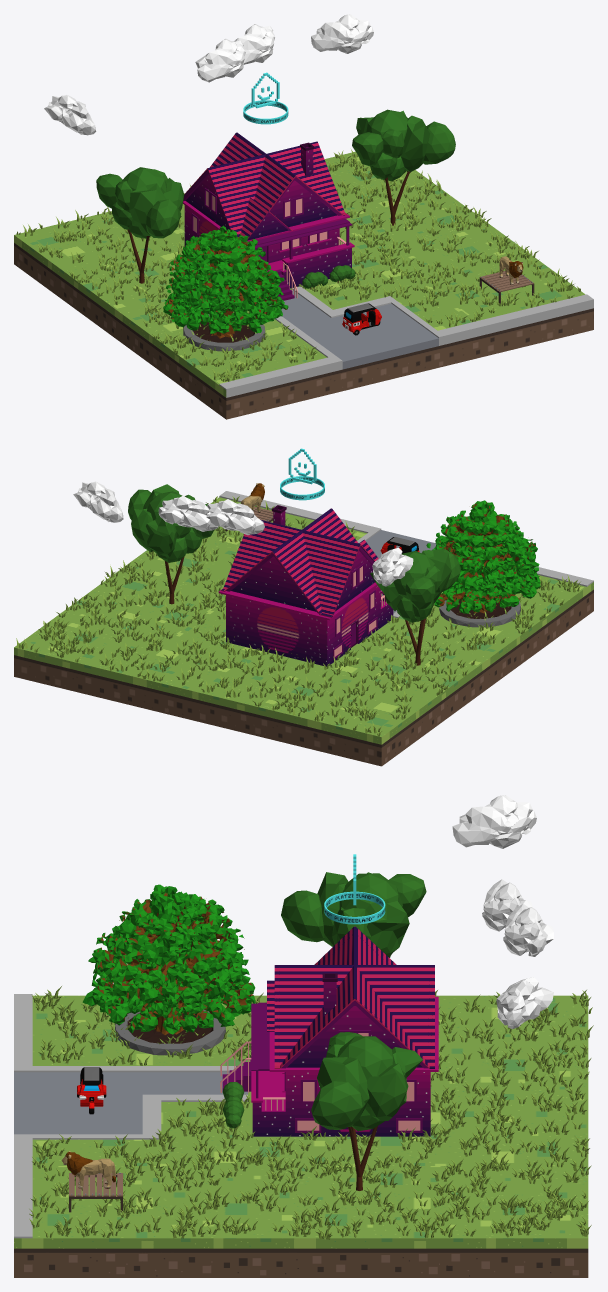
3 views of the same model, one above another, from view 1: azimuth 30°, elevation 25°; view 2: azimuth 150°, elevation 25°; view 3: azimuth 270°, elevation 25° (orthographic). The views are drawn at different scales.
Parts seen in each view (by area): view 1: Cube.006, Cube.156, Circle.012_Grass_0.192, OBJRANDOM_CEIBA, Cube.007, tree, tree.001, TYPE_PREMIUM, VEHICLES_TUC_TUC, Cube.009; view 2: Cube.006, Cube.156, Circle.012_Grass_0.192, OBJRANDOM_CEIBA, Cube.007, tree.001, tree, TYPE_PREMIUM, VEHICLES_TUC_TUC; view 3: Cube.006, Circle.012_Grass_0.192, Cube.156, OBJRANDOM_CEIBA, tree, Cube.007, tree.001, Cube.009, TYPE_PREMIUM, ANIMAL_LEON, VEHICLES_TUC_TUC.
Boxes of the visible parts, bbox=[...] form: Cube.006: bbox=[14, 151, 593, 419]; Cube.156: bbox=[183, 132, 354, 300]; Circle.012_Grass_0.192: bbox=[16, 149, 580, 381]; OBJRANDOM_CEIBA: bbox=[163, 225, 288, 351]; Cube.007: bbox=[44, 14, 373, 135]; tree: bbox=[352, 109, 455, 225]; tree.001: bbox=[96, 167, 184, 283]; TYPE_PREMIUM: bbox=[243, 72, 288, 124]; VEHICLES_TUC_TUC: bbox=[342, 303, 381, 335]; Cube.009: bbox=[479, 271, 534, 303]; Cube.006: bbox=[14, 491, 593, 766]; Cube.156: bbox=[218, 505, 393, 666]; Circle.012_Grass_0.192: bbox=[16, 496, 580, 736]; OBJRANDOM_CEIBA: bbox=[426, 500, 540, 627]; Cube.007: bbox=[73, 481, 413, 586]; tree.001: bbox=[370, 549, 460, 665]; tree: bbox=[128, 484, 214, 604]; TYPE_PREMIUM: bbox=[280, 448, 324, 500]; VEHICLES_TUC_TUC: bbox=[380, 537, 419, 553]; Cube.006: bbox=[14, 994, 588, 1277]; Circle.012_Grass_0.192: bbox=[29, 986, 593, 1239]; Cube.156: bbox=[220, 926, 438, 1136]; OBJRANDOM_CEIBA: bbox=[82, 884, 255, 1055]; tree: bbox=[311, 1032, 422, 1190]; Cube.007: bbox=[452, 795, 553, 1029]; tree.001: bbox=[281, 872, 426, 957]; Cube.009: bbox=[69, 1172, 122, 1212]; TYPE_PREMIUM: bbox=[324, 854, 385, 924]; ANIMAL_LEON: bbox=[62, 1151, 115, 1188]; VEHICLES_TUC_TUC: bbox=[77, 1067, 106, 1114].
Bounding box in the file's own units: 4071 × 2401 × 4040.
Materials: 38 (6 with a texture image).
